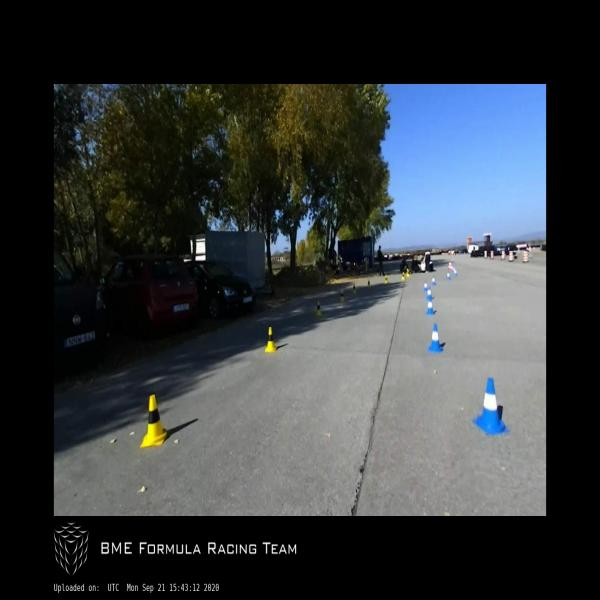blue_cone: (472, 378, 510, 436), (428, 322, 444, 352), (426, 298, 434, 314), (426, 287, 432, 300), (424, 280, 427, 292), (432, 276, 435, 284), (447, 272, 450, 280), (455, 270, 458, 276)
yellow_cone: (140, 394, 168, 448), (265, 326, 277, 353), (315, 301, 322, 316), (340, 289, 345, 301), (352, 283, 356, 294), (401, 272, 405, 280), (384, 275, 387, 284), (406, 269, 409, 277), (368, 279, 370, 288)
